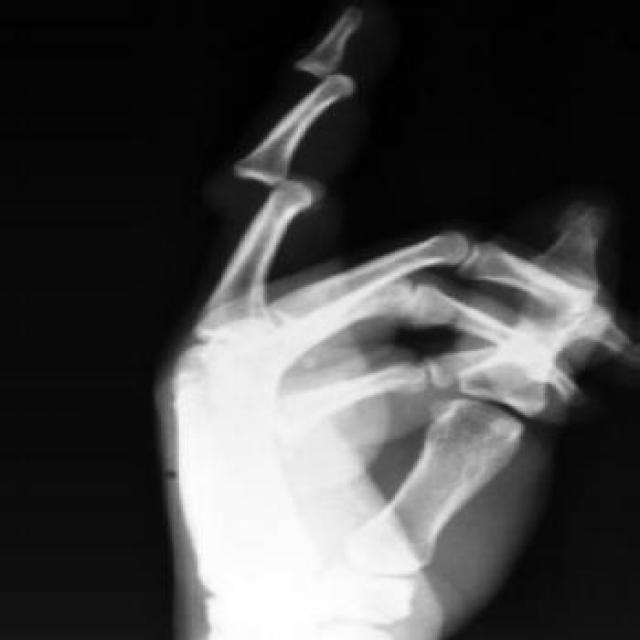Fracture: (208, 161, 344, 203), (283, 53, 353, 91)
